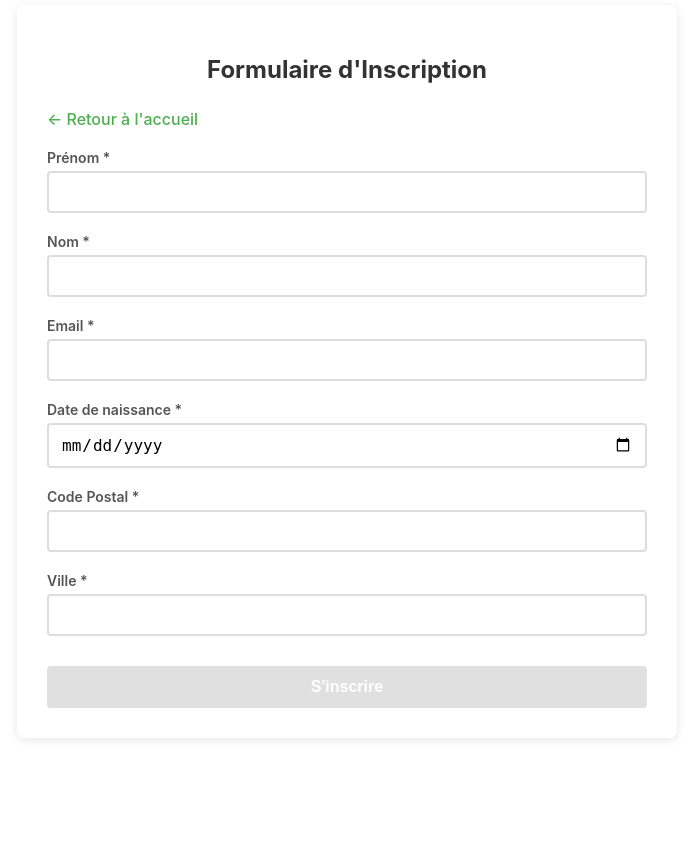
Test: RegistrationForm - Integration Tests › should display error message when API returns 500 (server error)
Type "John" into the field labelled "Prénom *". click: (347, 192)
box: [47,171,647,213]
Type "Doe" into the field labelled "Nom *". click: (347, 276)
box: [47,255,647,297]
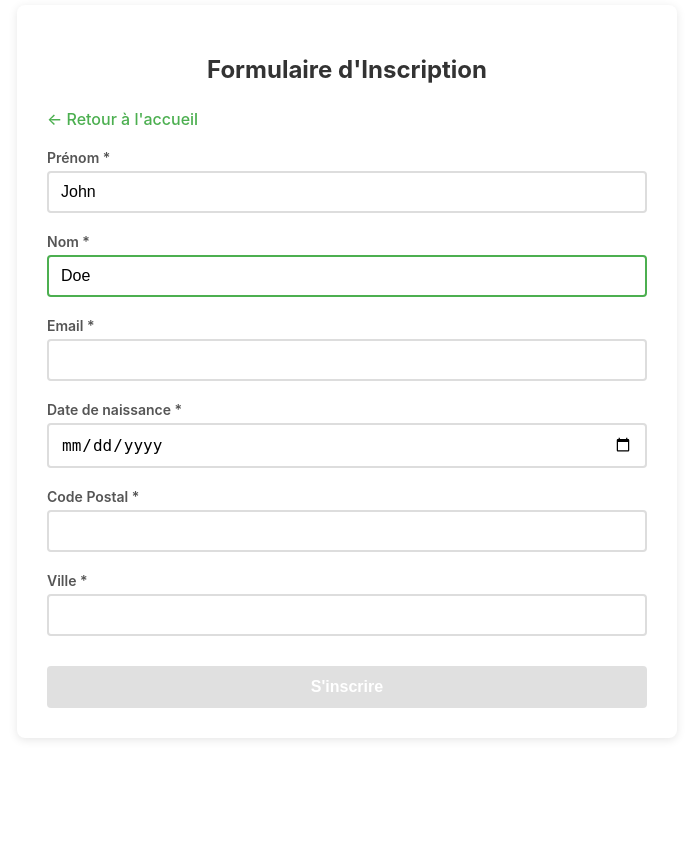
Type "test@example.com" into the field labelled "Email *". click: (347, 360)
box: [47,339,647,381]
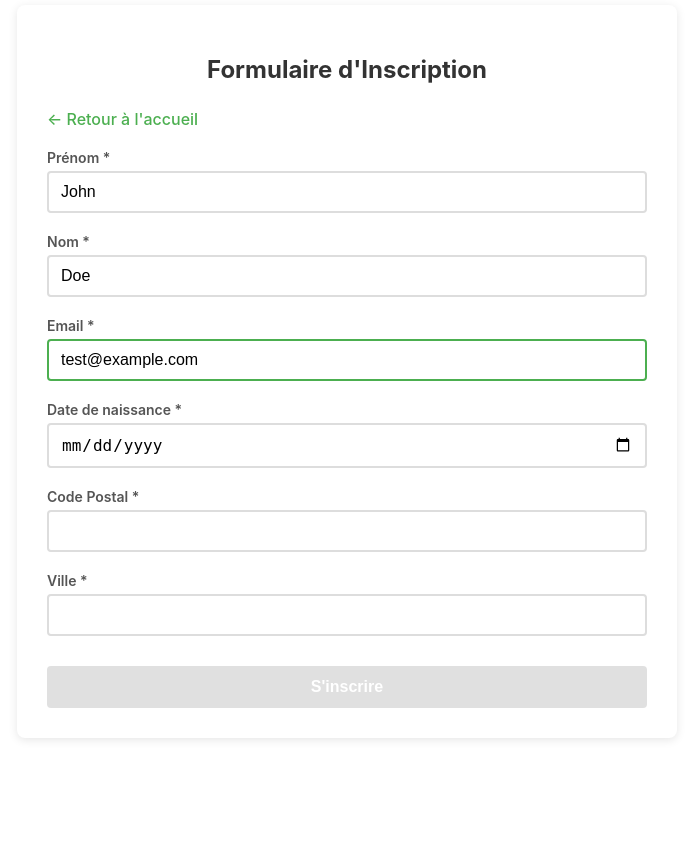
Type "1990-01-01" into the date field labelled "Date de naissance *". click: (347, 445)
box: [47,423,647,468]
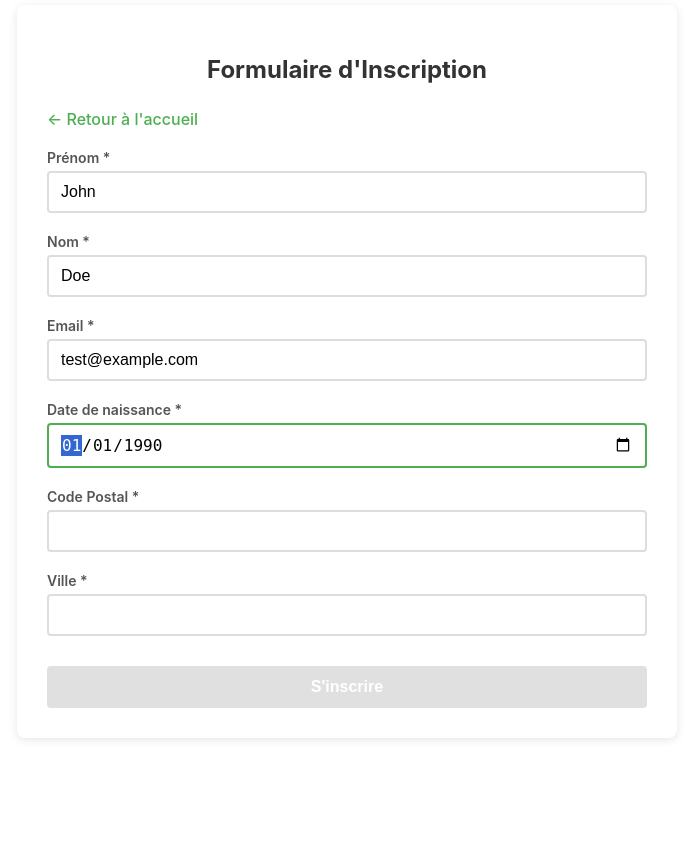
Type "75001" into the field labelled "Code Postal *". click: (347, 531)
box: [47,510,647,552]
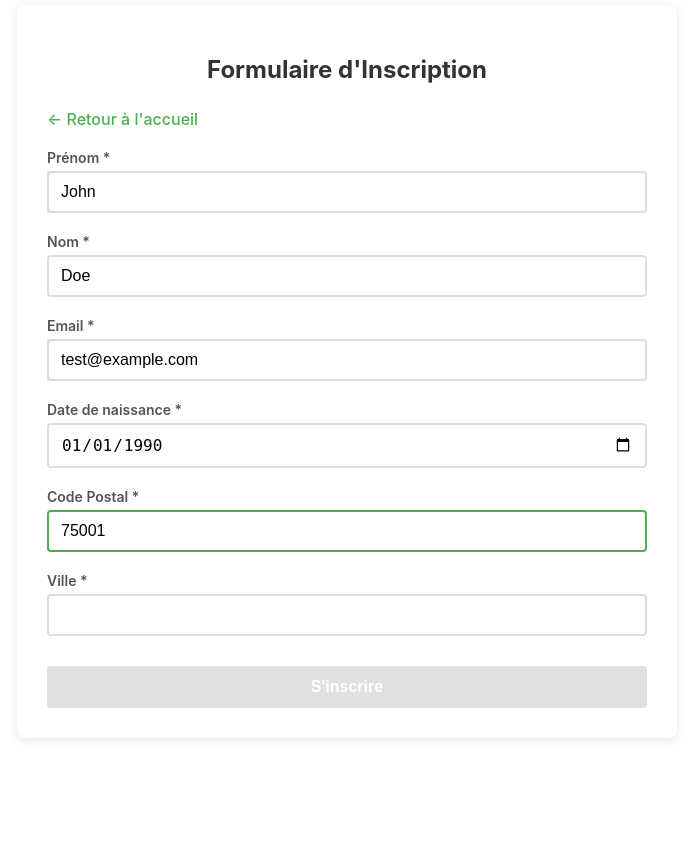
Type "Paris" into the field labelled "Ville *". click: (347, 615)
box: [47,594,647,636]
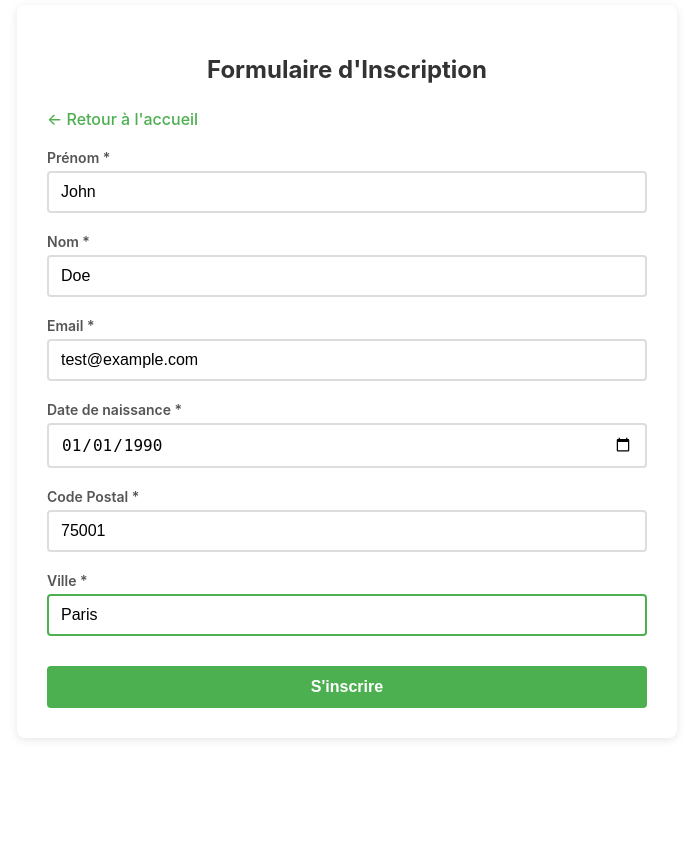
Expected: the button with test id "submit-button" is enabled
Click the button with test id "submit-button". click: (347, 687)
box: [47,666,647,708]
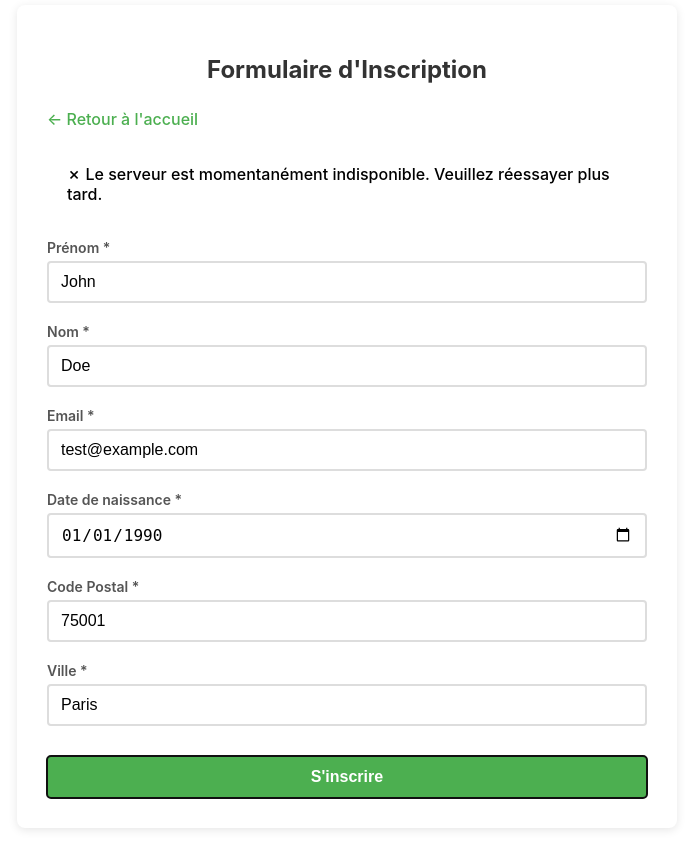
Expected: the text with test id "api-error-toaster" shows "Le serveur est momentanément indisponible. Veuillez réessayer plus tard.", [67,164,610,204]
